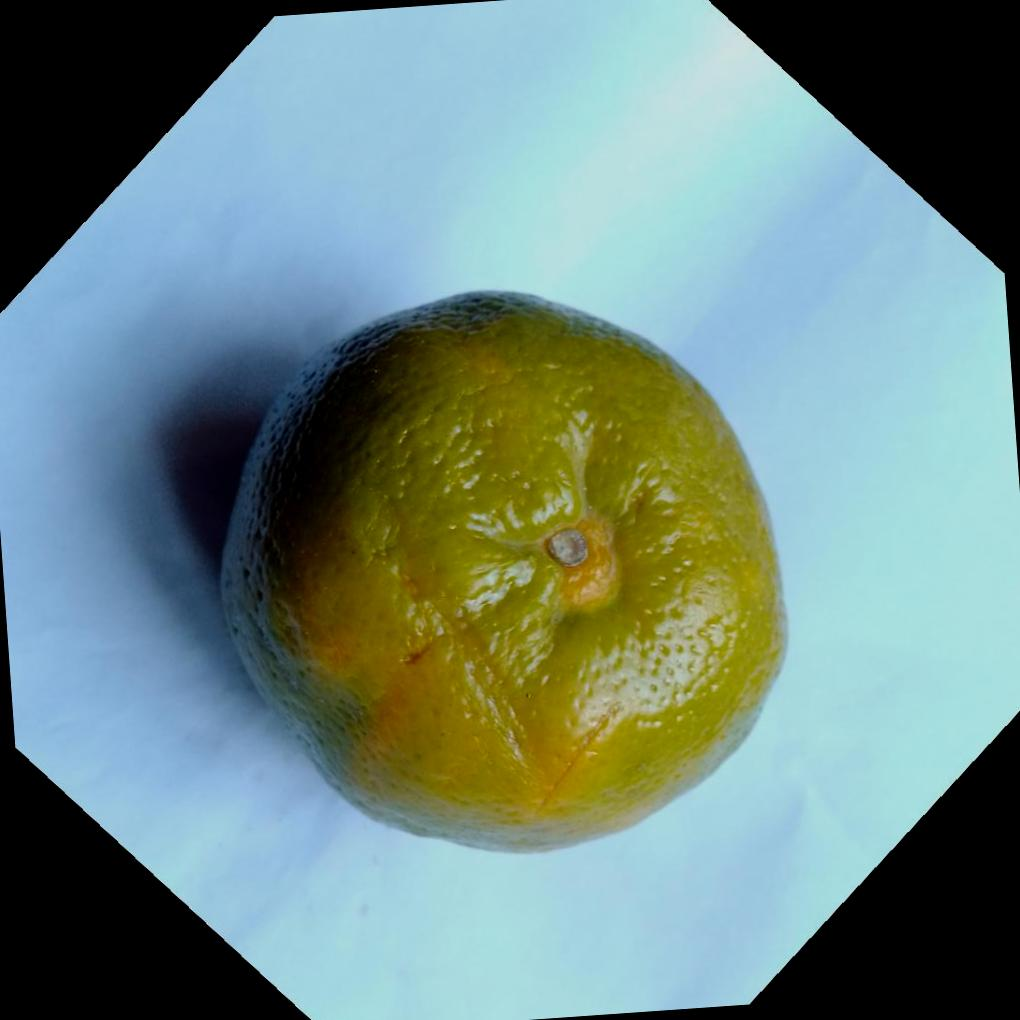FreshGuava: (221, 288, 793, 856)
